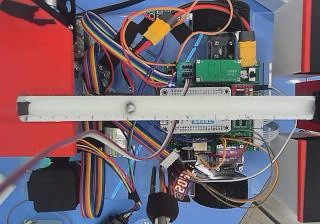ironball: (123, 101, 135, 112)
